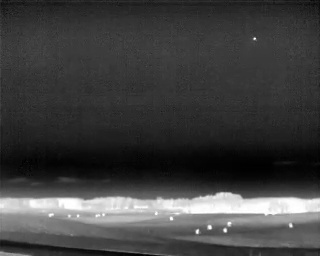BIRD: (250, 34, 259, 44)
